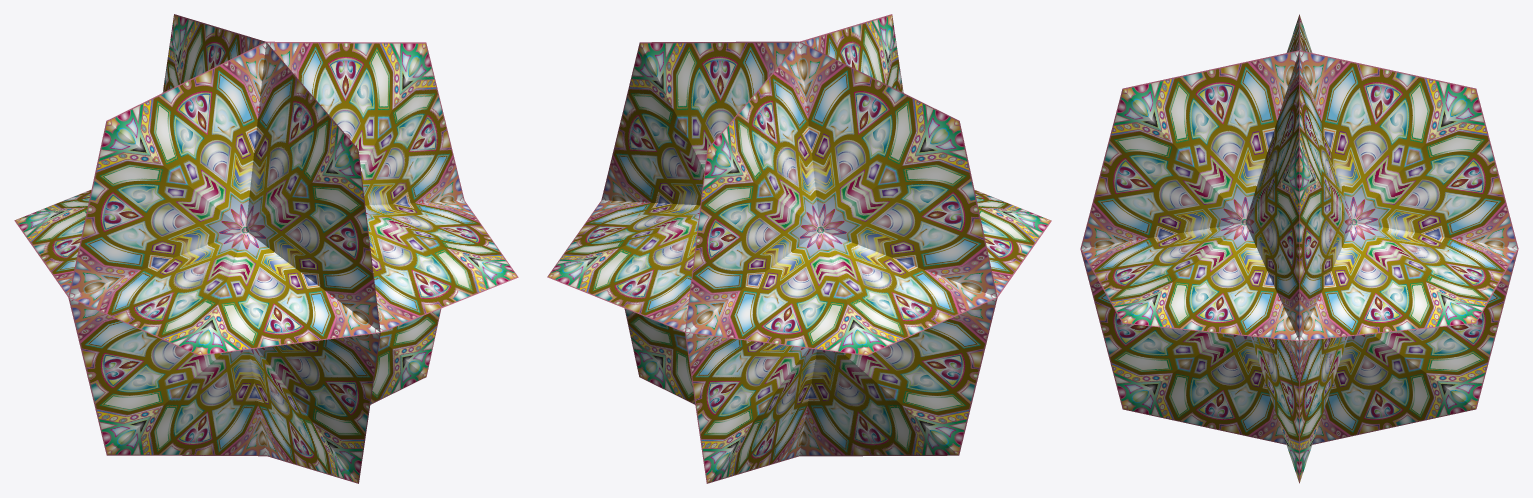
Rendered from 6Mobius48a.obj.
The picture shows the model from 3 angles, left to right: view 1: azimuth 30°, elevation 25°; view 2: azimuth 150°, elevation 25°; view 3: azimuth 270°, elevation 25°; orthographic projection. The views are drawn at different scales.
Bounding box in the file's own units: 2.41 × 2.41 × 2.41.
1 material, 1 textured.
